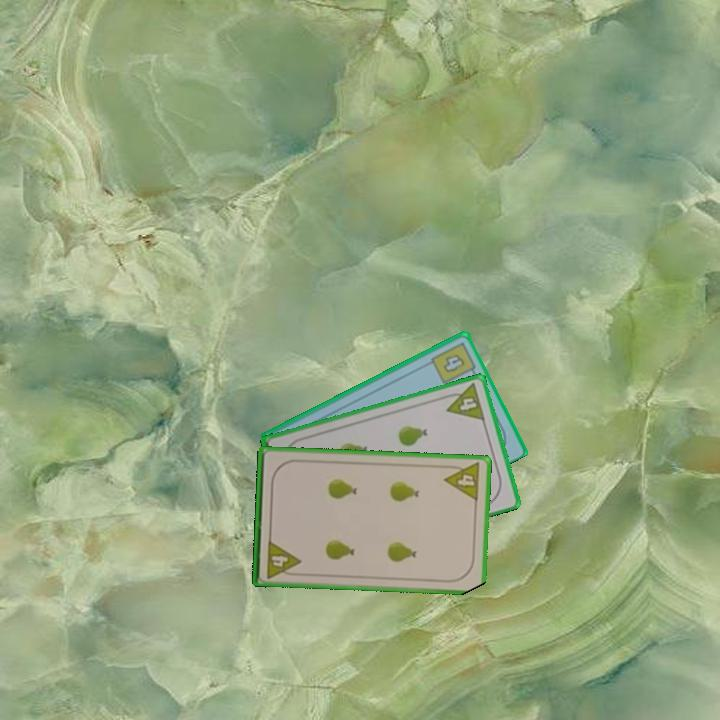4b: (427, 338, 480, 387)
4p: (439, 380, 488, 423), (441, 459, 483, 504), (263, 536, 303, 581)
